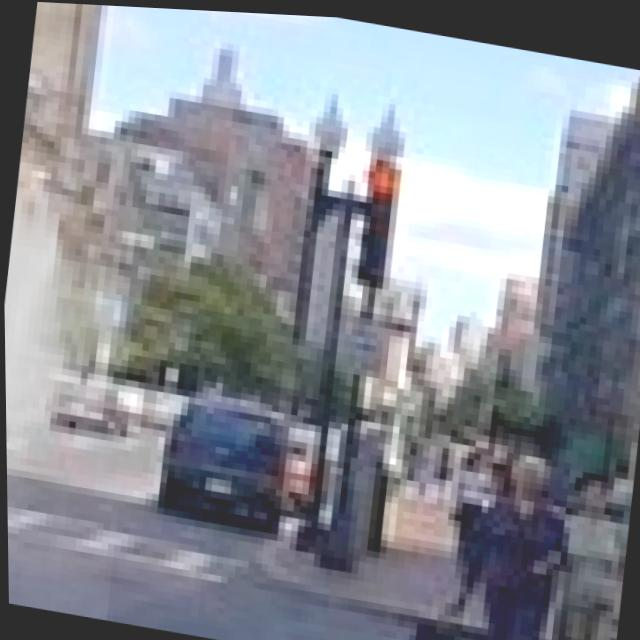smoke: (1, 77, 167, 621)
